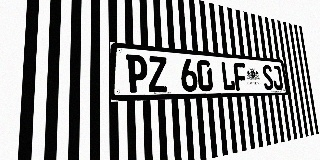0: (196, 60, 213, 91)
6: (180, 58, 198, 92)
F: (233, 62, 248, 91)
J: (271, 65, 283, 90)
L: (220, 61, 236, 91)
P: (126, 54, 148, 93)
S: (262, 65, 274, 90)
Z: (148, 56, 168, 92)
